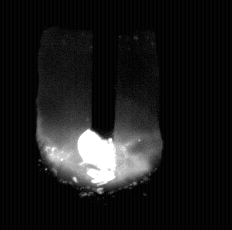arame: (91, 0, 118, 140)
poca: (36, 0, 160, 230)
